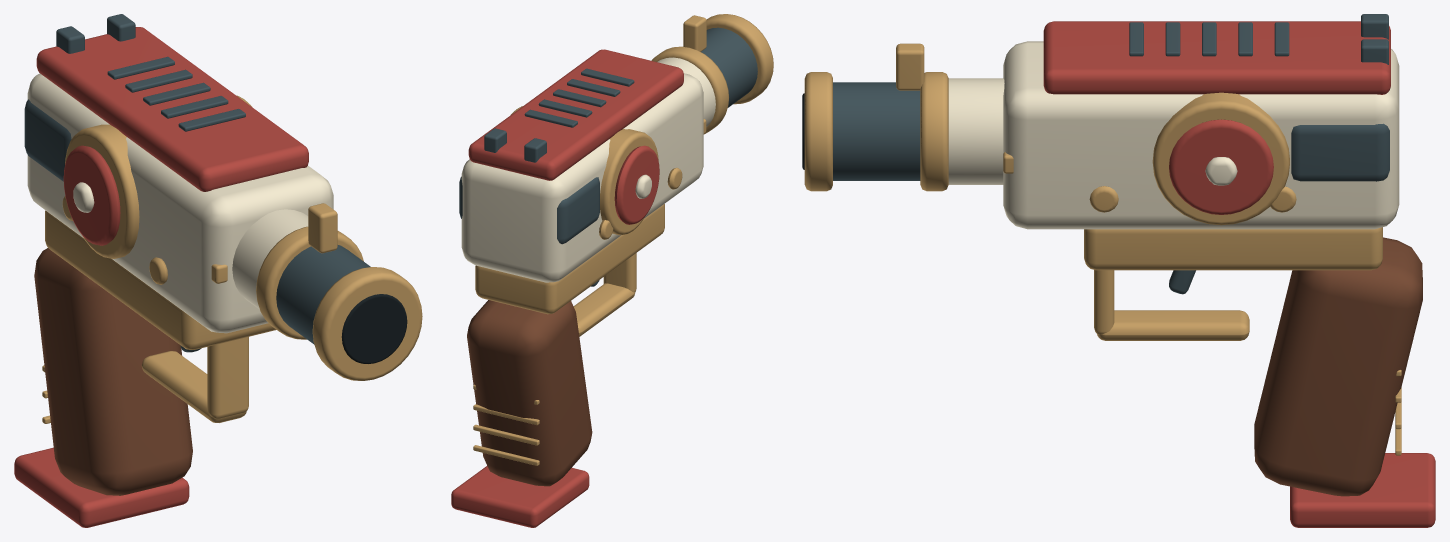
The model's file is bad-omen.glb.
3 views of the same model, side by side, from view 1: azimuth 30°, elevation 25°; view 2: azimuth 150°, elevation 25°; view 3: azimuth 270°, elevation 25° (orthographic). The views are drawn at different scales.
Visible parts, largest first — view 1: Carved walnut grip, Receiver, Enamel spine, Lower frame, Barrel collar.002, Magazine, Barrel, Chamber enamel, Arcane chamber, Muzzle, Guard front, Ceramic barrel jacket (+12 smaller); view 2: Receiver, Carved walnut grip, Enamel spine, Lower frame, Magazine, Barrel, Chamber enamel, Arcane chamber, Moving action, Barrel collar.002, Barrel collar.001, Guard bottom (+12 smaller); view 3: Receiver, Carved walnut grip, Enamel spine, Lower frame, Barrel, Magazine, Chamber enamel.001, Arcane chamber, Ceramic barrel jacket, Moving action, Guard bottom, Barrel collar.002 (+4 smaller).
Boxes of the visible parts, x1,y1,x2,y2 form: Carved walnut grip: (34,248,192,495); Receiver: (27,73,333,333); Enamel spine: (36,27,308,191); Lower frame: (45,210,276,349); Barrel collar.002: (312,267,422,380); Magazine: (14,447,189,527); Barrel: (276,245,370,344); Chamber enamel: (63,145,120,245); Arcane chamber: (65,95,251,258); Muzzle: (341,294,407,363); Guard front: (207,337,248,418); Ceramic barrel jacket: (232,209,308,309); Receiver: (461,73,703,282); Carved walnut grip: (467,300,592,486); Enamel spine: (468,49,683,180); Lower frame: (475,204,664,314); Magazine: (451,466,589,527); Barrel: (701,27,757,107); Chamber enamel: (614,145,659,224); Arcane chamber: (511,106,658,235); Moving action: (459,176,599,244); Barrel collar.002: (706,14,773,104); Barrel collar.001: (651,46,728,134); Guard bottom: (573,283,635,336); Receiver: (1003,41,1399,229); Carved walnut grip: (1254,237,1422,496); Enamel spine: (1043,21,1390,94); Lower frame: (1084,227,1382,270); Barrel: (833,82,920,180); Magazine: (1290,453,1435,527); Chamber enamel.001: (1169,119,1273,214); Arcane chamber: (1152,92,1289,225); Ceramic barrel jacket: (948,78,1004,184); Moving action: (1291,123,1389,181); Guard bottom: (1097,310,1249,340); Barrel collar.002: (804,72,832,191).
Bounding box in the file's own units: 0.271 × 0.6465 × 0.7835.
